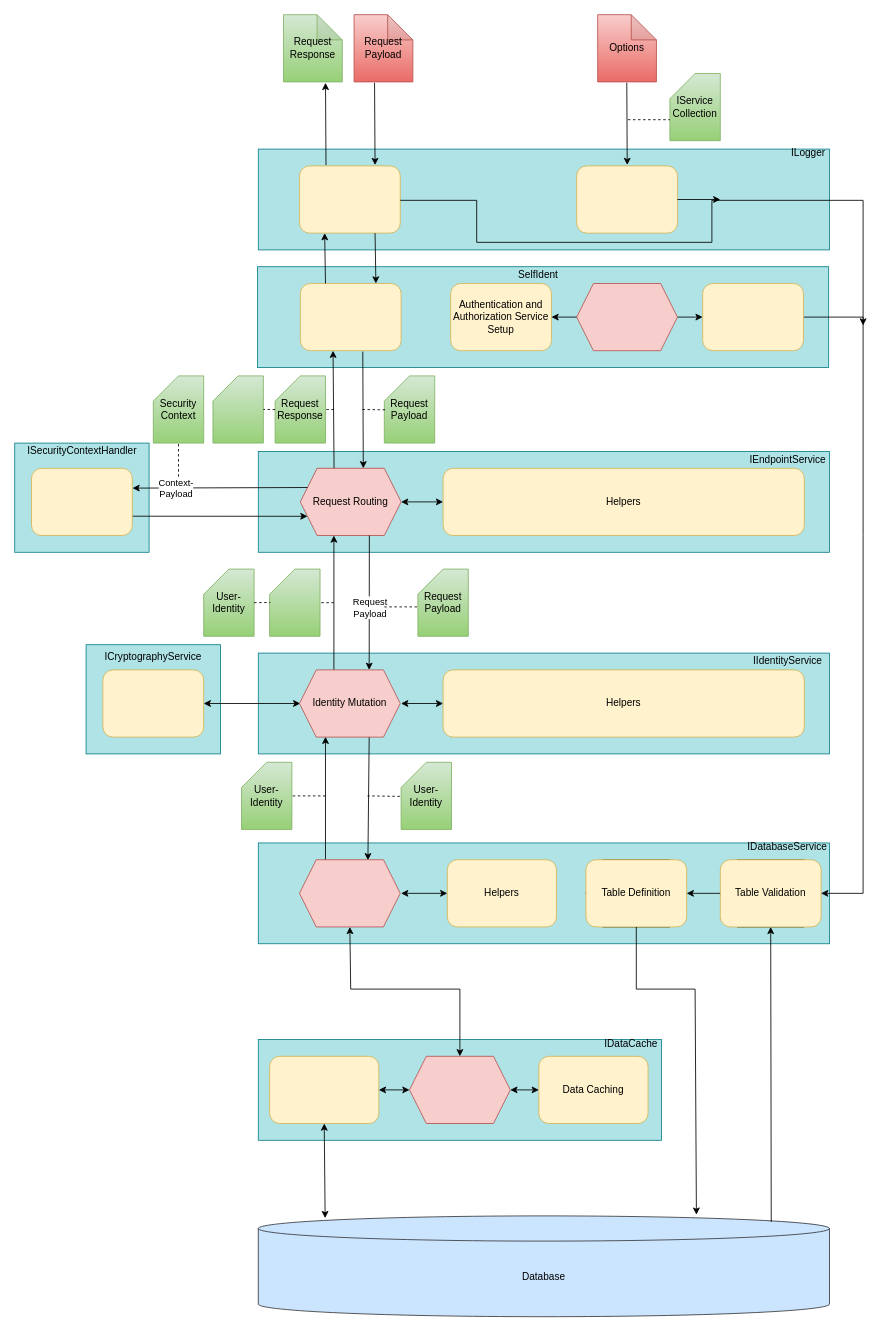
The diagram is 885 pixels wide and 1331 high, and some of its shapes have lost their labels. The box of each missing label's shape, as (x1, y1, x2, y2) in pixels:
Caching Logic: (409, 1055, 510, 1124)
Data Mutation: (299, 859, 400, 927)
Data Retrieval: (269, 1055, 379, 1124)
Hashing Functions: (102, 669, 204, 737)
Identity Mutation Result: (269, 568, 320, 636)
Library Setup: (702, 283, 803, 351)
Option Validation: (576, 283, 677, 351)
Request Logging: (299, 165, 400, 233)
Request Validation: (299, 283, 401, 351)
SecurityContext Mutation: (31, 467, 132, 536)
Setup Logging: (576, 165, 677, 233)
User: (212, 375, 263, 443)
